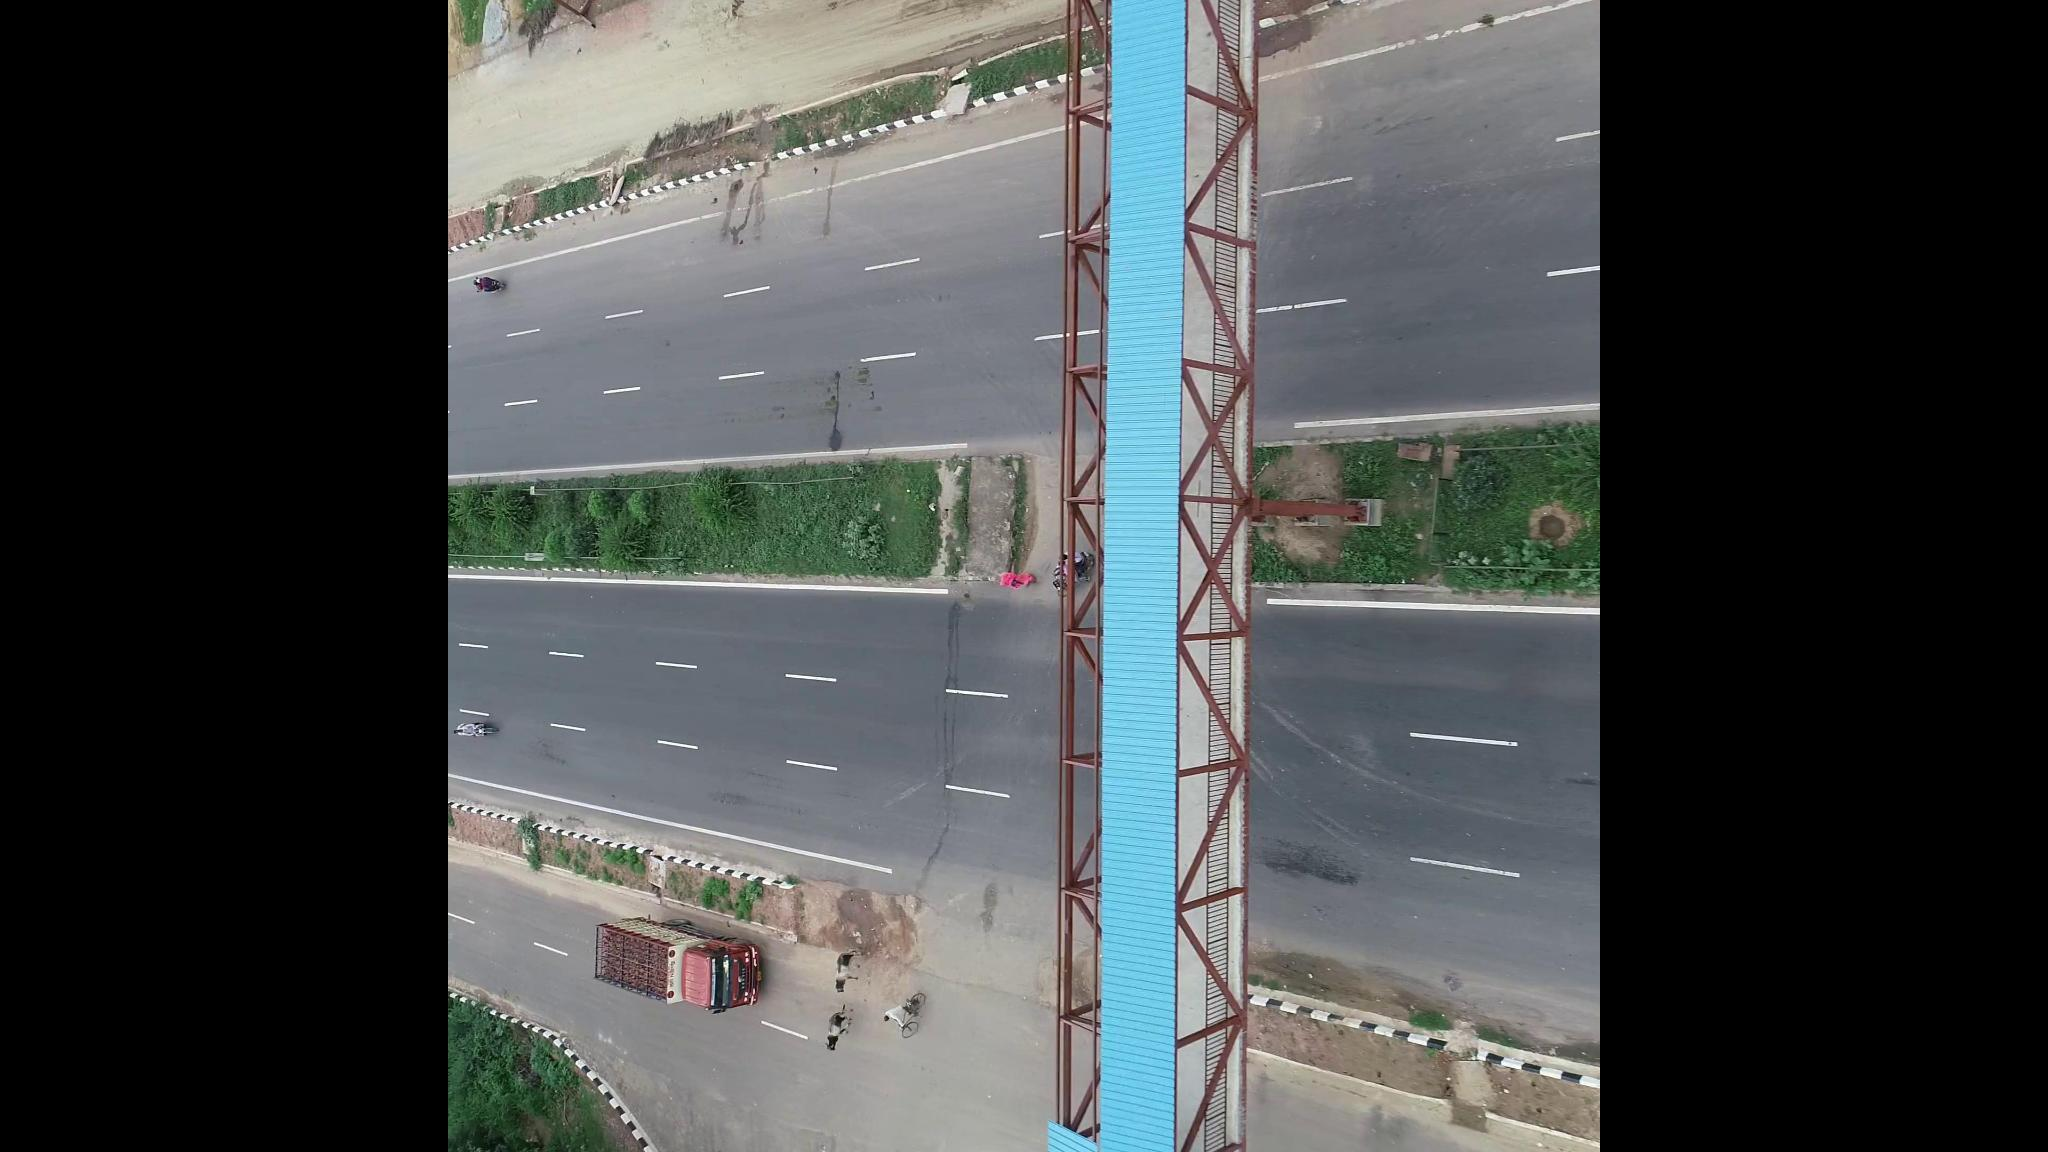Ravelling: (1267, 838, 1362, 883)
